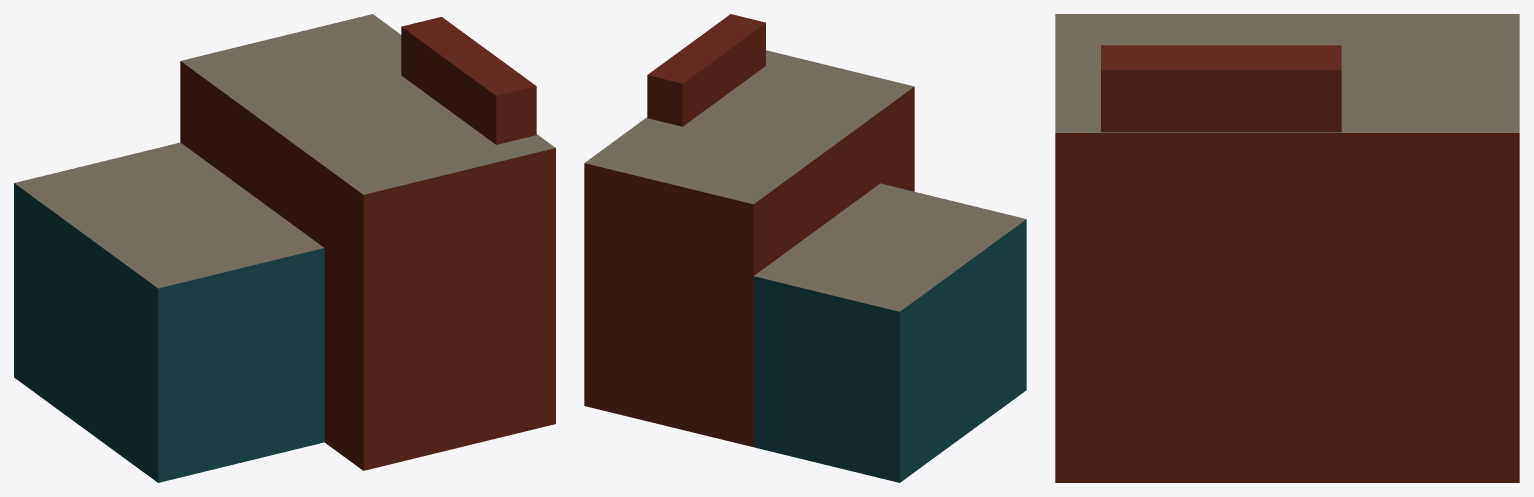
File: mh-container-flats.towns-v1.lod2.glb
The picture shows the model from 3 angles, left to right: view 1: azimuth 30°, elevation 25°; view 2: azimuth 150°, elevation 25°; view 3: azimuth 270°, elevation 25°; orthographic projection. The views are drawn at different scales.
Parts seen in each view (by area): view 1: mh-container-flats; view 2: mh-container-flats; view 3: mh-container-flats.
Boxes of the visible parts, box(x1,y1,x2,y2) form: mh-container-flats: box(14, 14, 555, 482); mh-container-flats: box(584, 14, 1026, 482); mh-container-flats: box(1055, 14, 1519, 482).
Size of the model in its own units: 13.8 by 11.95 by 12.2.
